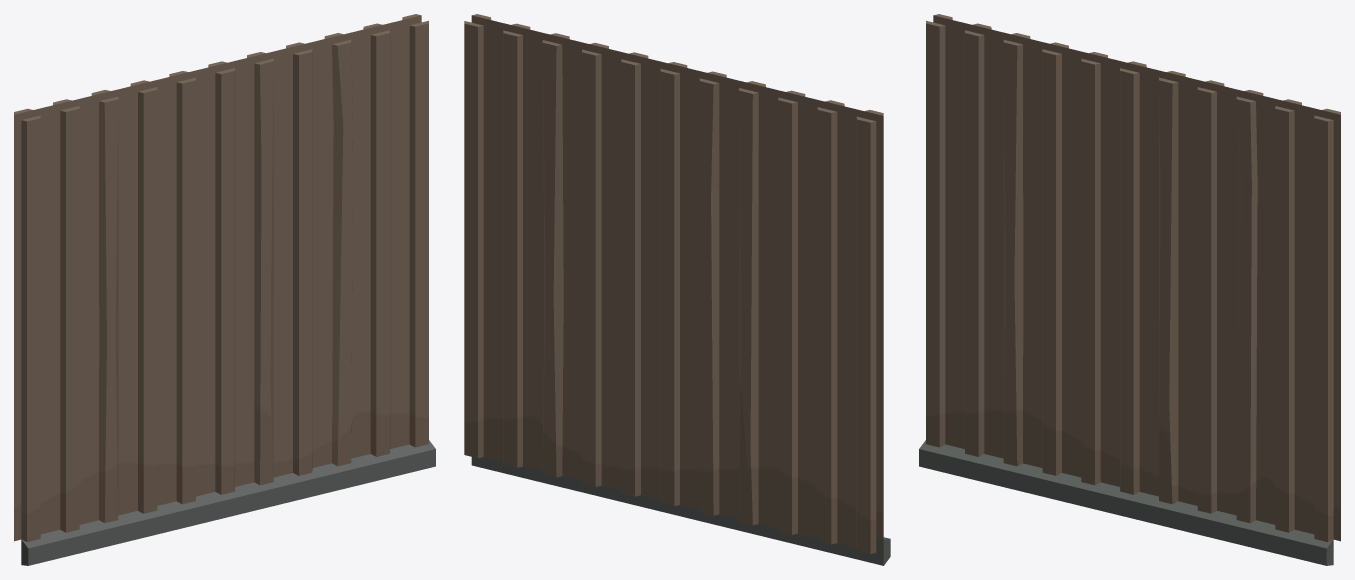
File: SM_Bld_Wall_Metal_01.obj
The picture shows the model from 3 angles, left to right: view 1: azimuth 30°, elevation 25°; view 2: azimuth 150°, elevation 25°; view 3: azimuth 330°, elevation 25°; orthographic projection.
Parts seen in each view (by area): view 1: SM_Bld_Wall_Metal_01_0; view 2: SM_Bld_Wall_Metal_01_0; view 3: SM_Bld_Wall_Metal_01_0.
Part boxes in pixels (x1=…): SM_Bld_Wall_Metal_01_0: x1=14, y1=14, x2=435, y2=565; SM_Bld_Wall_Metal_01_0: x1=464, y1=14, x2=890, y2=565; SM_Bld_Wall_Metal_01_0: x1=919, y1=14, x2=1340, y2=565.
Size of the model in its own units: 3 by 3.13 by 0.2173.
1 material, 1 textured.
